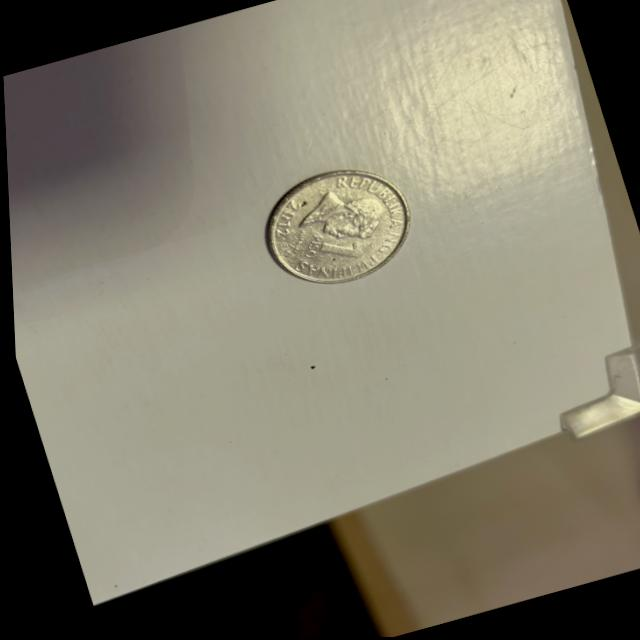1_Old_Front: (287, 221, 368, 274)
